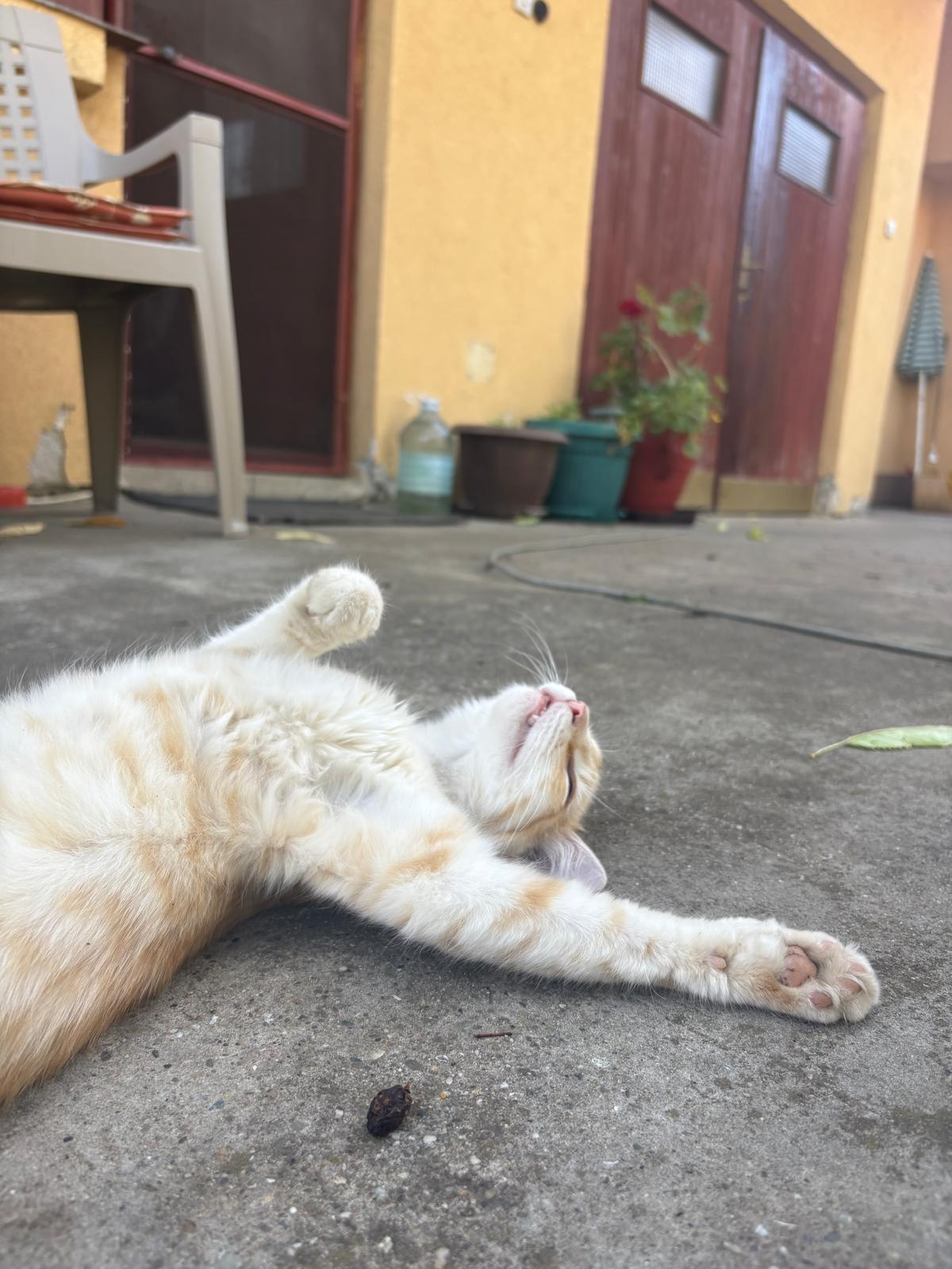macka: (0, 563, 886, 1100)
